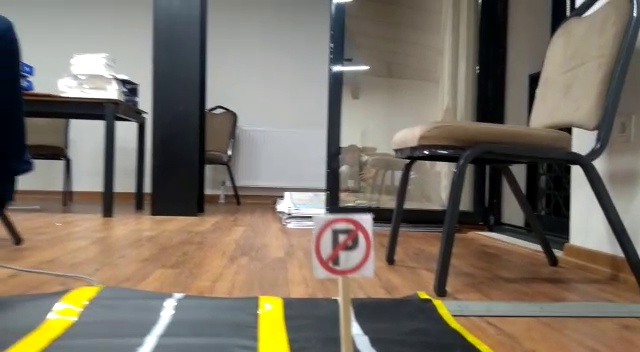park_yapilmaz: (314, 215, 372, 276)
